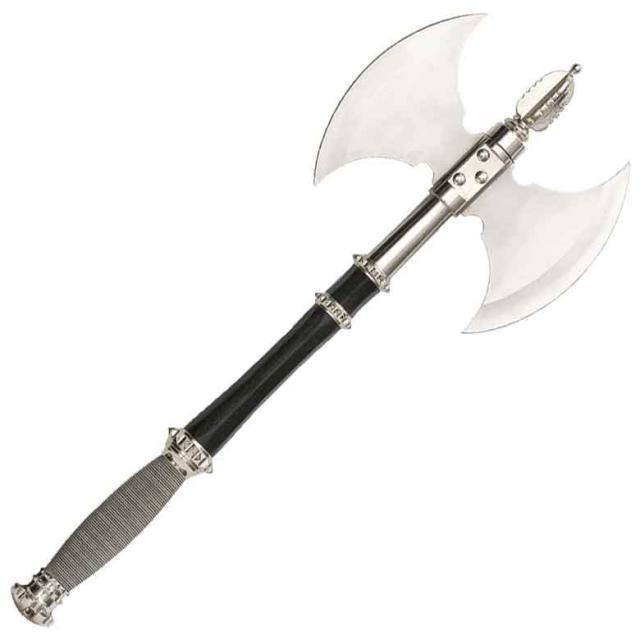axe: (12, 1, 640, 629)
